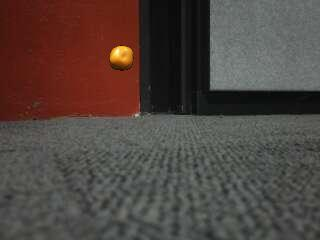Potato: (109, 46, 135, 72)
